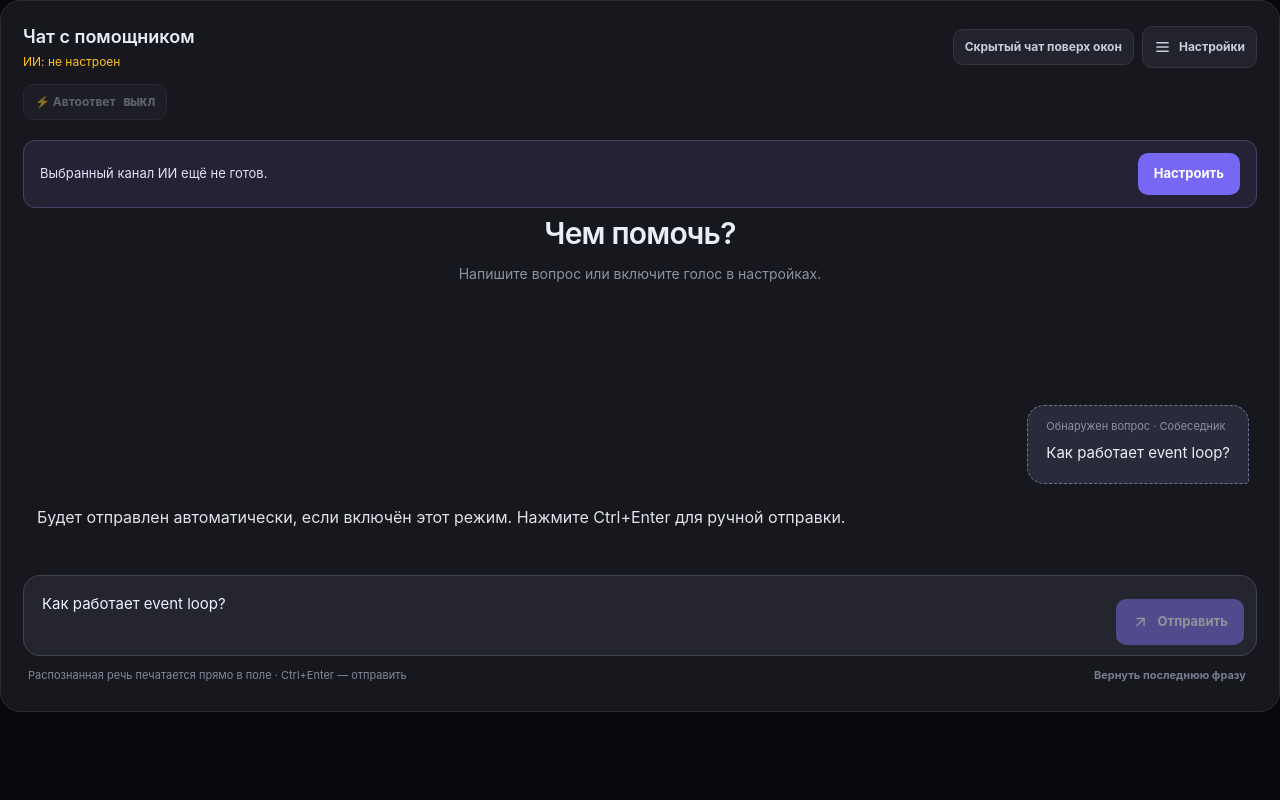
Test: compact mode keeps the spoken question visible after the answer
(page scrolled)
Click the button "Скрытый чат поверх окон". click: [1043, 47]
box: top-left (953, 29), bottom-right (1134, 65)
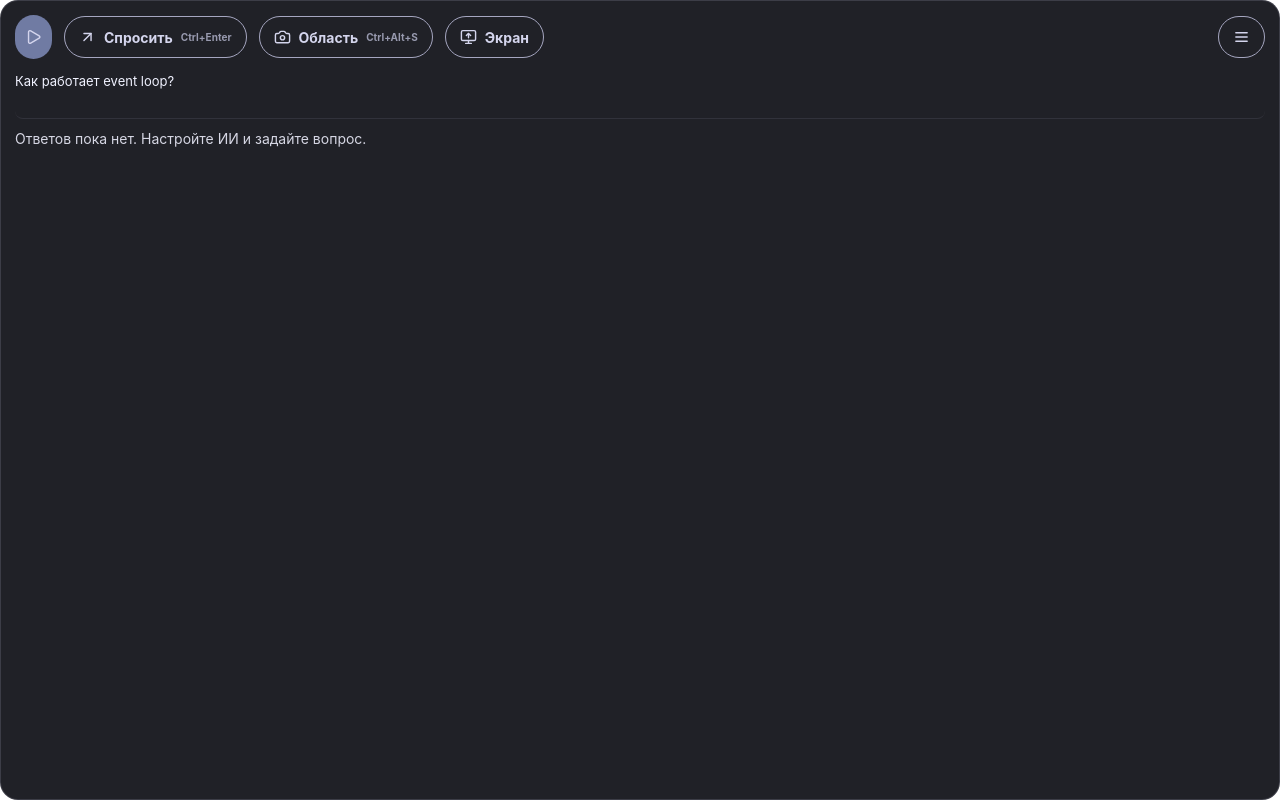
Expected: the button "Спросить Ctrl+Enter" is enabled, top-left (64, 16), bottom-right (246, 58)
Press Enter in the text box named "Вопрос ИИ", box top-left (15, 64), bottom-right (1265, 119)
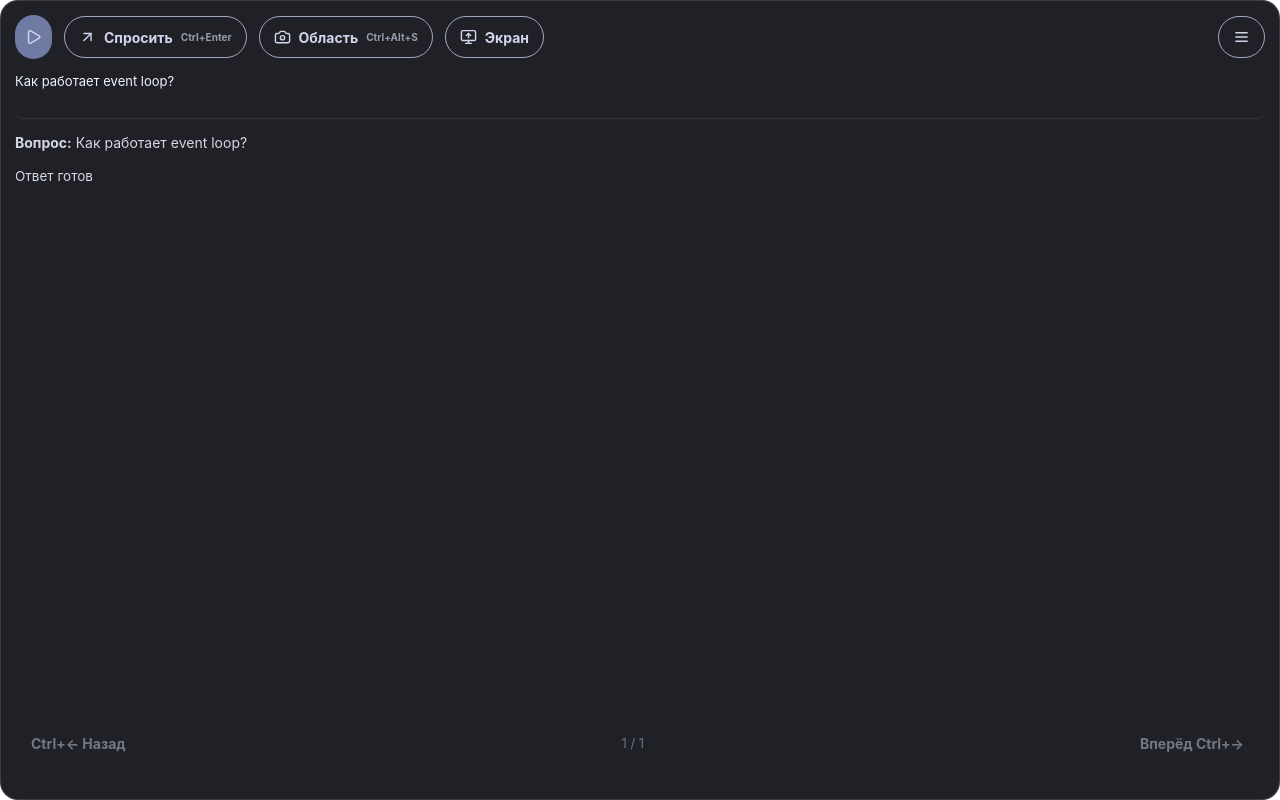
Expected: the text "Ответ готов" is shown, top-left (15, 168), bottom-right (93, 184)
